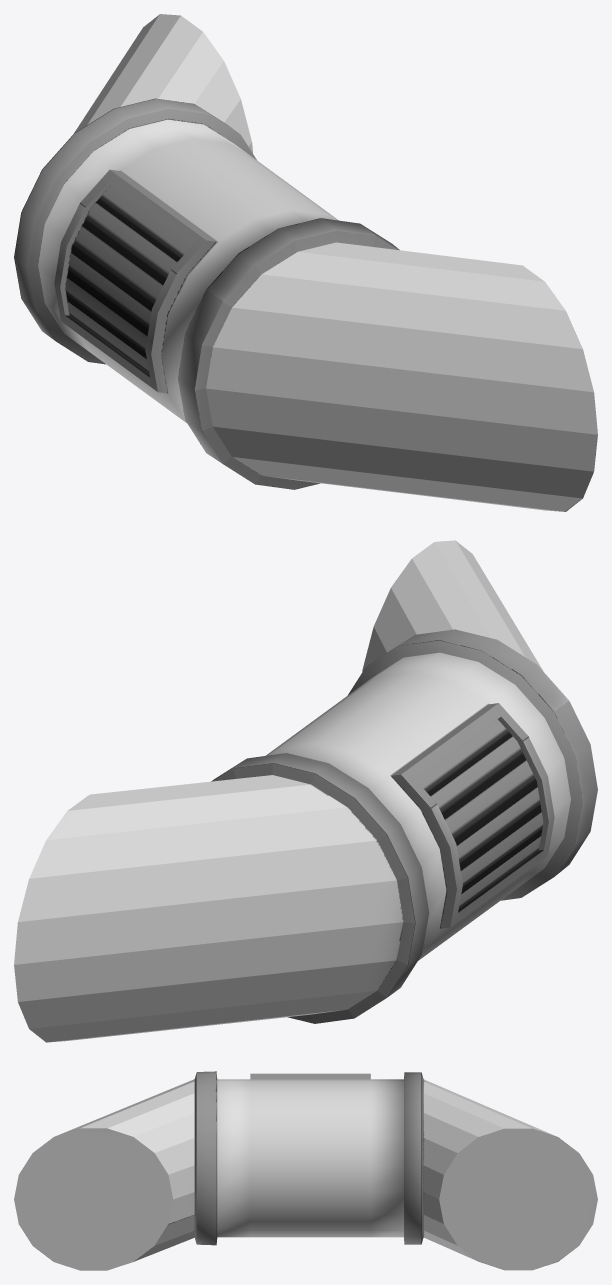
File: Pipe_final.FBX
The picture shows the model from 3 angles, top to bottom: view 1: azimuth 30°, elevation 25°; view 2: azimuth 150°, elevation 25°; view 3: azimuth 270°, elevation 25°; orthographic projection. The views are drawn at different scales.
Visible parts, largest first — view 1: Cylinder001; view 2: Cylinder001; view 3: Cylinder001.
Part boxes in pixels (left/top/right/bottom): Cylinder001: left=14, top=14, right=597, bottom=511; Cylinder001: left=14, top=540, right=597, bottom=1042; Cylinder001: left=14, top=1071, right=597, bottom=1270.
Bounding box in the file's own units: 23.24 × 73.55 × 21.65.
